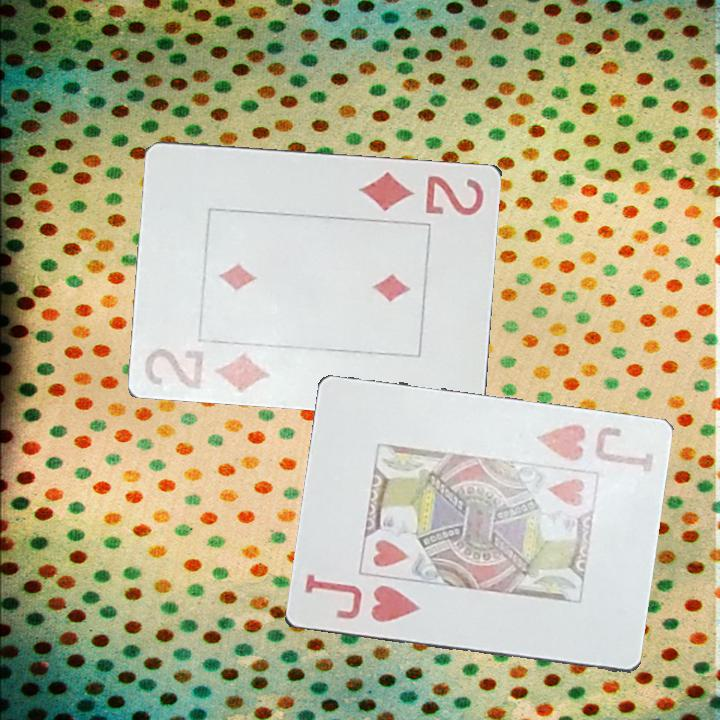2d: (141, 344, 274, 396), (355, 167, 488, 218)
Jh: (532, 420, 656, 476), (300, 571, 423, 626)
